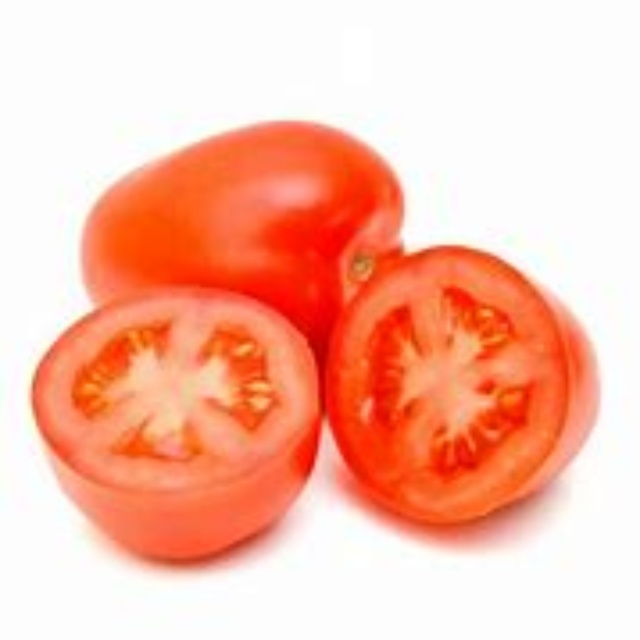tomato: (21, 283, 313, 570), (72, 109, 406, 343), (336, 242, 605, 519)
